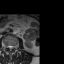CCS_normal: (9, 44, 11, 52)
LFS_normal: (13, 44, 16, 50)
LLS_normal: (11, 44, 13, 50)
RFS_normal: (5, 43, 8, 50)
RLS_normal: (8, 44, 9, 50)
